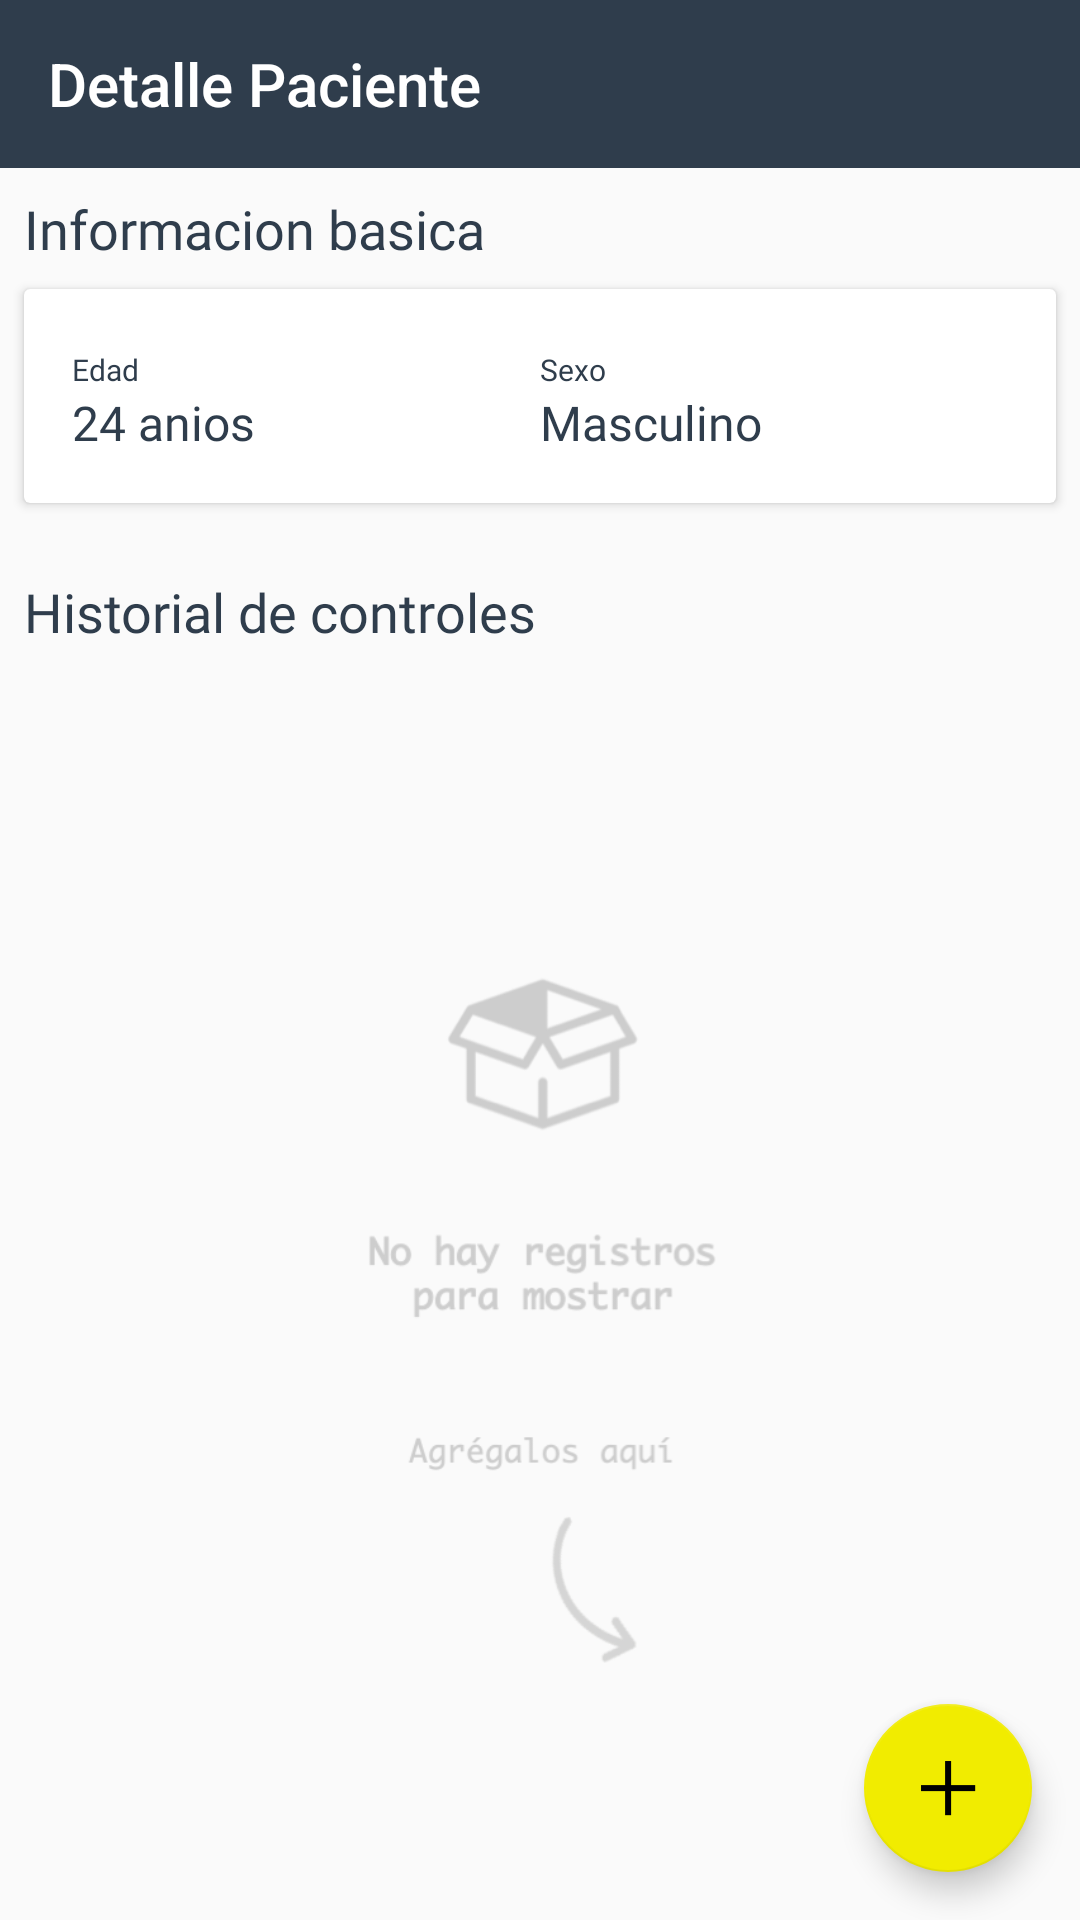

Icon bounding boxes for this 1080x1920 phone screenshot, format (x1, y1, x2, y2):
aumentar: (864, 1704, 1032, 1872)
